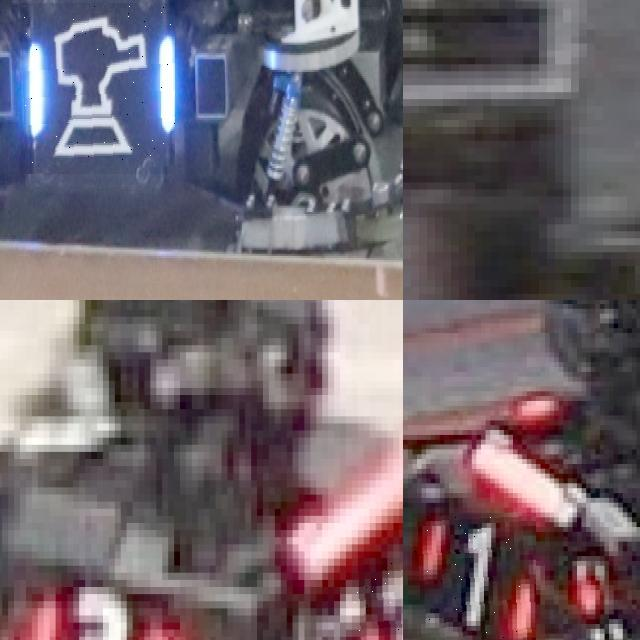Bs: (20, 3, 175, 174)
R1: (412, 512, 535, 640)
R3: (20, 579, 168, 640), (351, 558, 403, 640)
